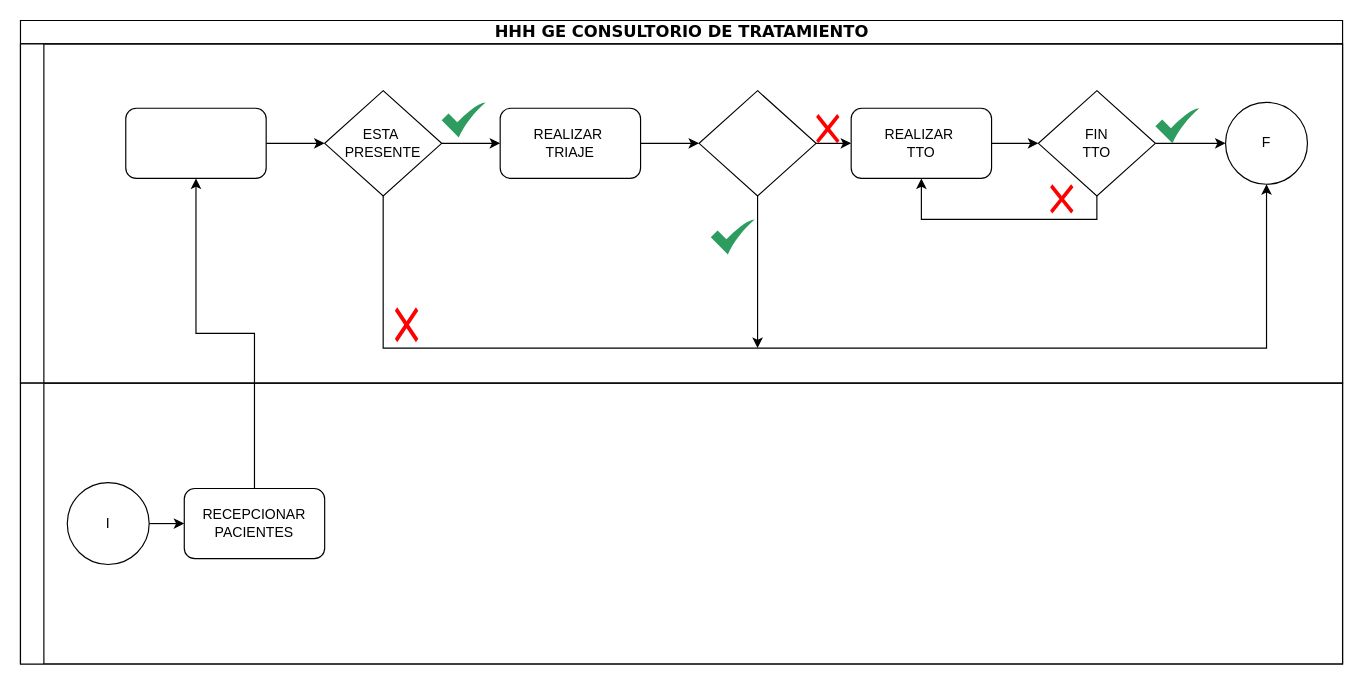
The diagram is 1363 pixels wide and 684 high, and some of its shapes have lost their labels. The box of each missing label's shape, as (x1, y1, x2, y2) in pixels:
BOX OBSERVACION: (698, 90, 816, 196)
ENFERMERIA: (19, 43, 1343, 383)
GESTION DE PACIENTES: (19, 382, 1343, 664)
LLAMAR PACIENTE: (125, 107, 266, 178)
